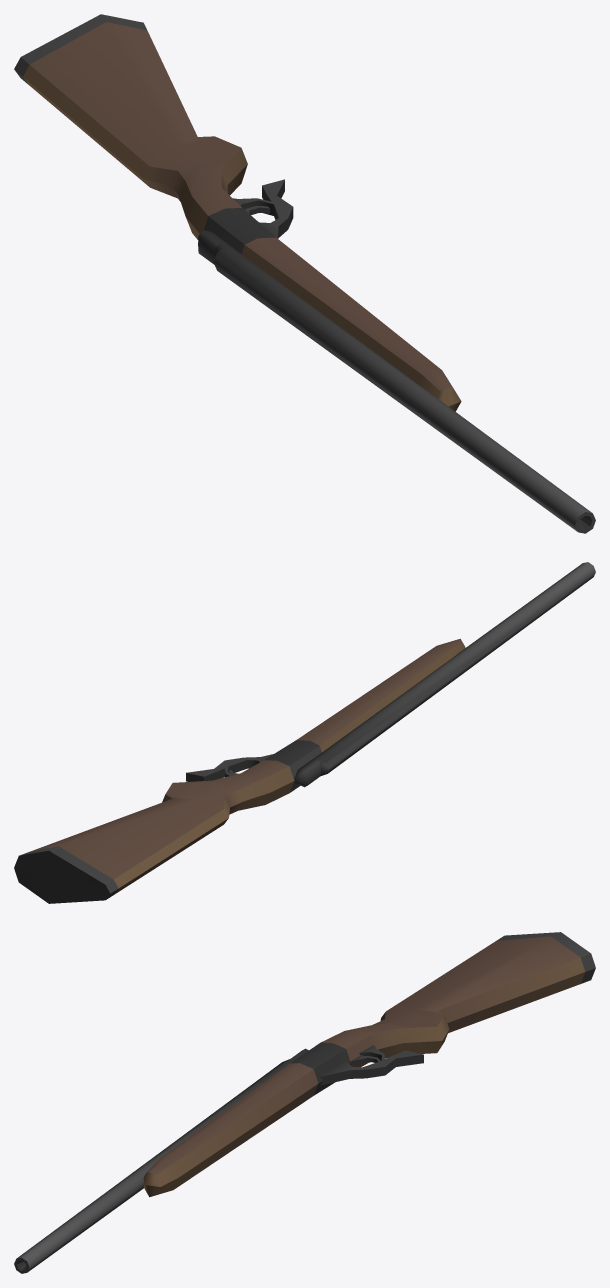
Rendered from human-tools-rifle_v1.fbx.
3 views of the same model, one above another, from view 1: azimuth 30°, elevation 25°; view 2: azimuth 150°, elevation 25°; view 3: azimuth 330°, elevation 25° (orthographic). The views are drawn at different scales.
Visible parts, largest first — view 1: Rifle; view 2: Rifle; view 3: Rifle.
Boxes of the visible parts, x1=… form: Rifle: x1=14, y1=14, x2=595, y2=533; Rifle: x1=14, y1=562, x2=595, y2=903; Rifle: x1=14, y1=932, x2=595, y2=1273.
Bounding box in the file's own units: 0.1896 × 0.0716 × 1.1.
